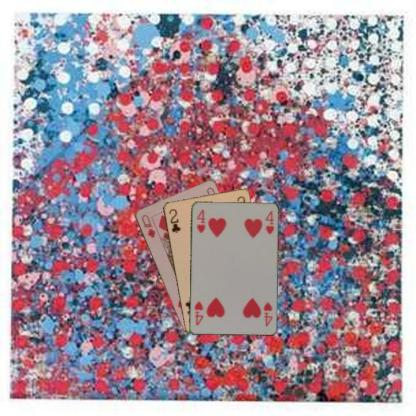2c: (166, 206, 182, 234)
4h: (261, 299, 273, 328), (194, 206, 206, 234)
Qd: (139, 212, 156, 239)
